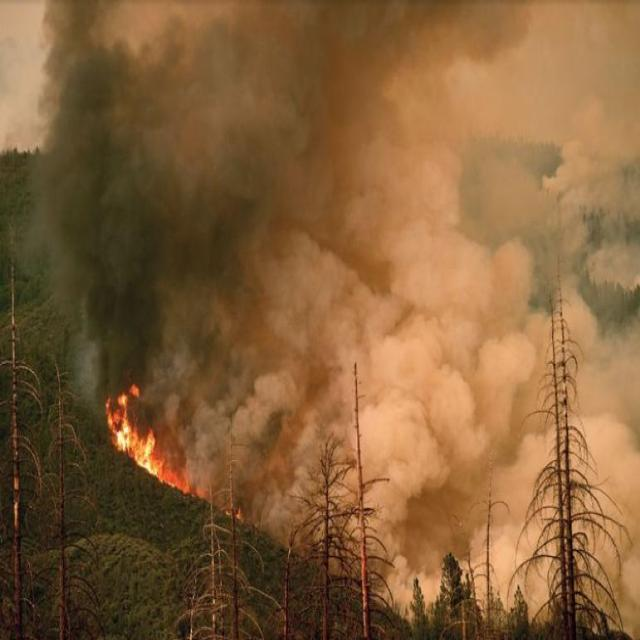Fire: (92, 366, 276, 536)
Smoke: (38, 0, 638, 249), (61, 258, 634, 432), (197, 426, 640, 545), (354, 554, 640, 628)
